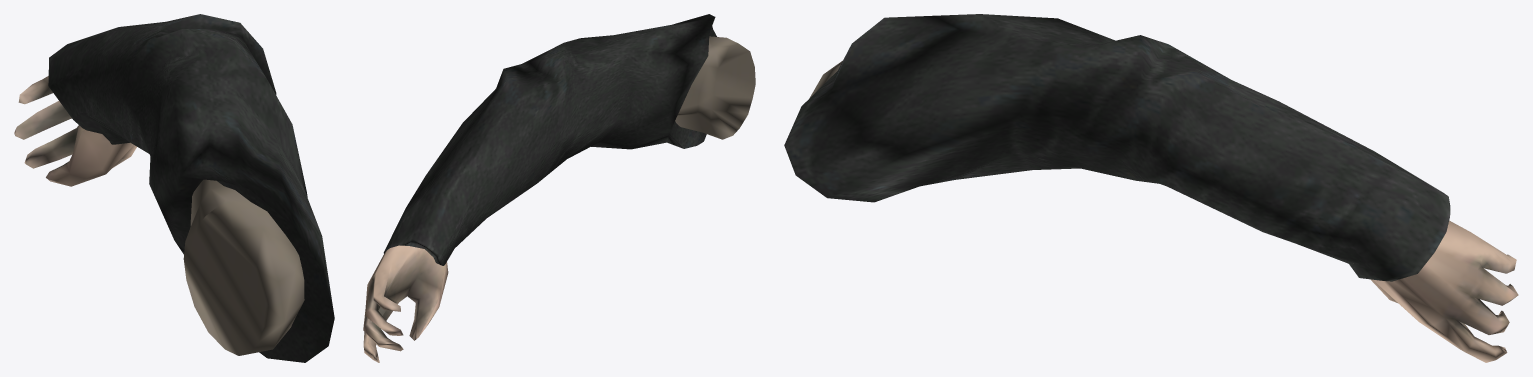
File: dest_nt_nuked_male_01_arm_left_LOD1.obj
3 renders of one model, left to right at view 1: azimuth 30°, elevation 25°; view 2: azimuth 150°, elevation 25°; view 3: azimuth 270°, elevation 25°, orthographic. The views are drawn at different scales.
Parts seen in each view (by area): view 1: mtl_nt_2020_manne_male01_jacket1, mtl_nt_2020_manne_male01_head1; view 2: mtl_nt_2020_manne_male01_jacket1, mtl_nt_2020_manne_male01_head1; view 3: mtl_nt_2020_manne_male01_jacket1, mtl_nt_2020_manne_male01_head1.
Part boxes in pixels (x1,y1,x2,y2): mtl_nt_2020_manne_male01_jacket1: (48,14,334,362); mtl_nt_2020_manne_male01_head1: (14,76,304,355); mtl_nt_2020_manne_male01_jacket1: (383,14,716,265); mtl_nt_2020_manne_male01_head1: (363,36,755,362); mtl_nt_2020_manne_male01_jacket1: (784,14,1450,281); mtl_nt_2020_manne_male01_head1: (809,60,1518,362).
Size of the model in its own units: 22.18 by 30.49 by 69.9.
